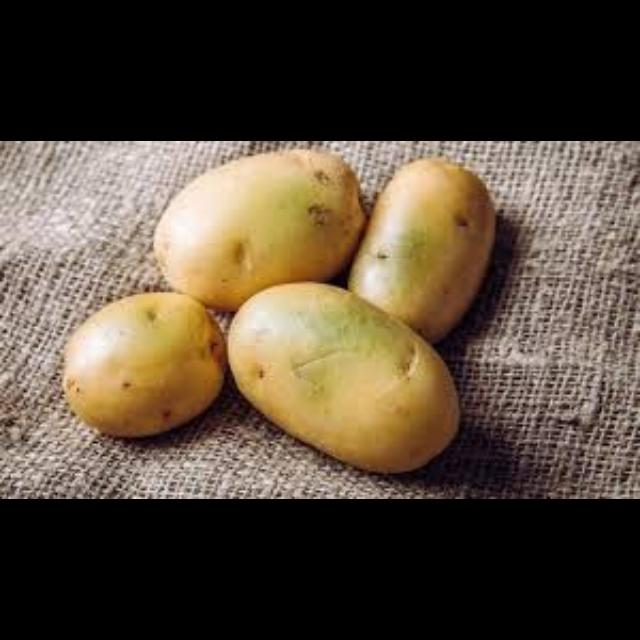Defected potato: (226, 277, 468, 477), (158, 146, 366, 310), (348, 154, 504, 353), (51, 285, 235, 445)
